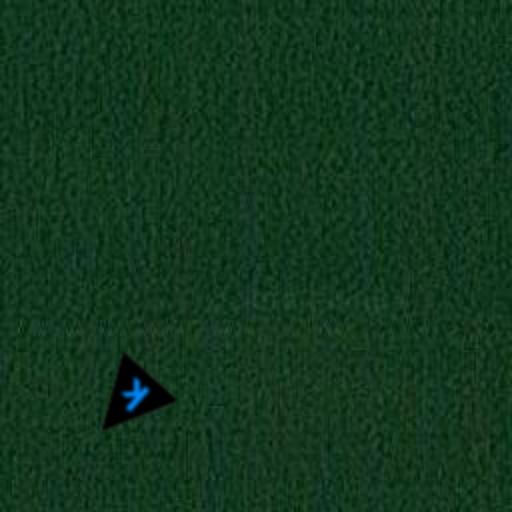triangle: (72, 350, 180, 458)
